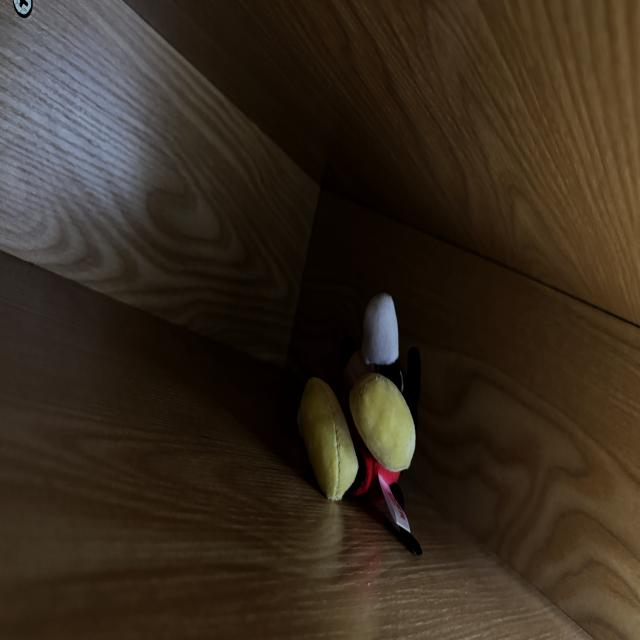mickey: (298, 294, 419, 507)
